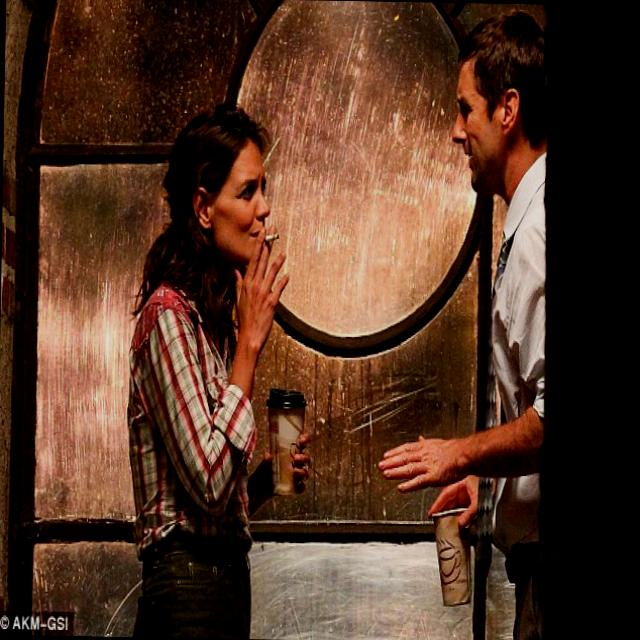cigarette: (270, 230, 280, 242)
